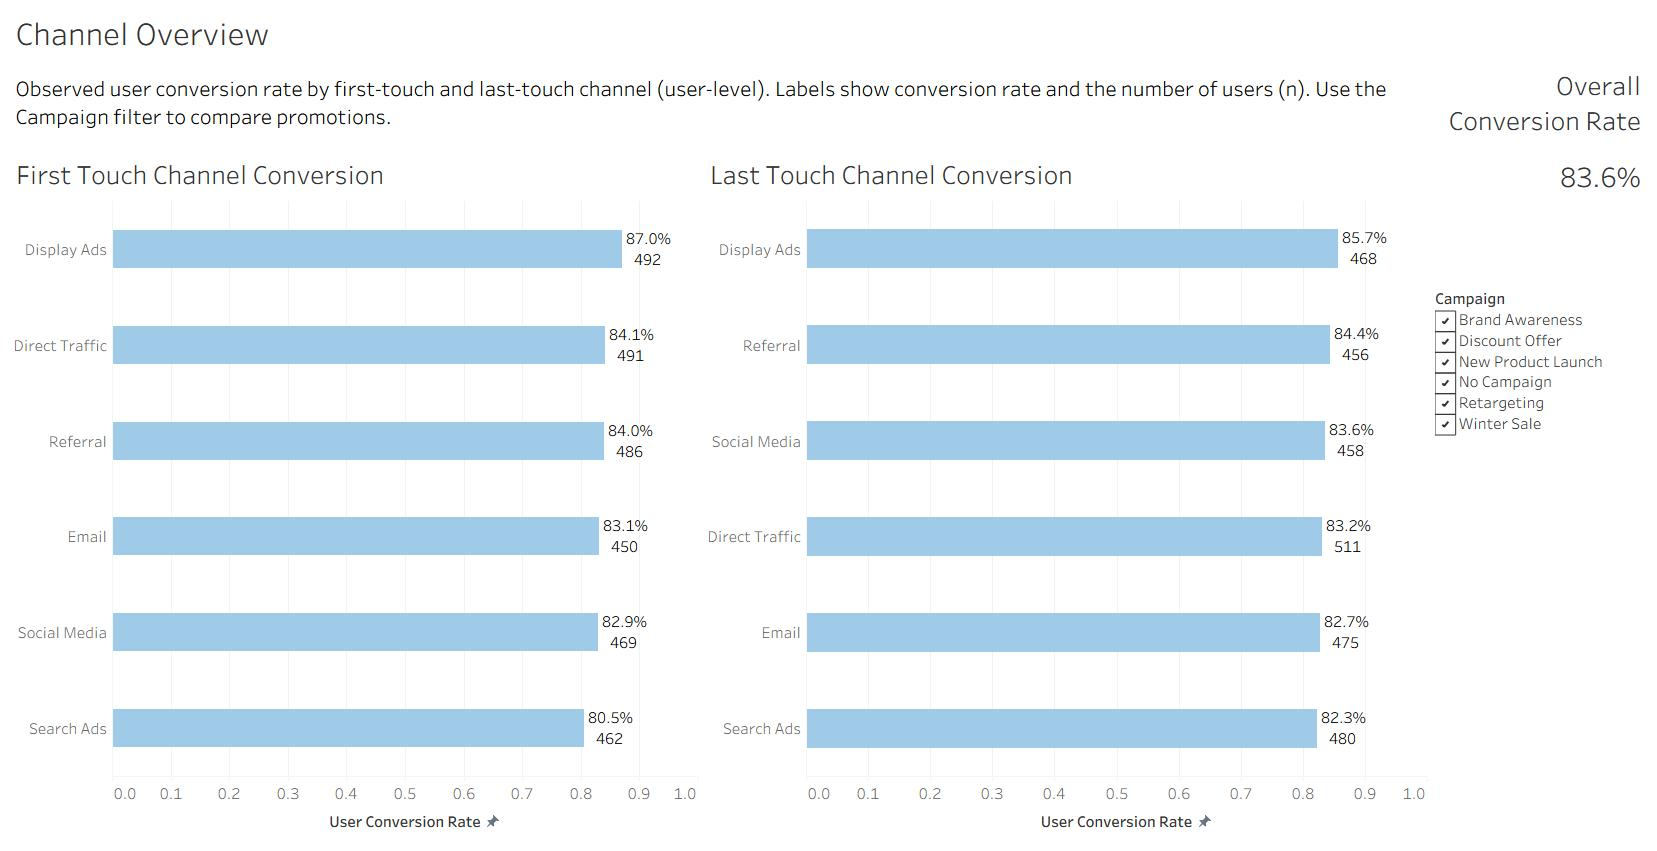

This screenshot's page, from the dashboard's own definition file:
{"tool":"tableau","page":{"name":"Channel Overview","canvas":[1000,1000],"units":"permille","ordinal":0},"visuals":[{"type":"title","box":[4.8,9.4,990.3,58.8]},{"type":"text","box":[4.8,68.2,858.8,104.6]},{"type":"worksheet","title":"Overall Conversion Rate","mark":"Automatic","box":[863.6,68.2,131.6,203.3]},{"type":"worksheet","title":"First Touch Channel Conversion","mark":"Automatic","rows":["Channel"],"cols":["Calculation_1132936819992403971"],"box":[4.8,172.7,418.8,817.9]},{"type":"worksheet","title":"Last Touch Channel Conversion","mark":"Automatic","rows":["Channel"],"cols":["Calculation_1132936819992403971"],"box":[423.6,172.7,440,817.9]},{"type":"filter","title":"First Touch Channel Conversion","param":"[federated.1mprire1l5ndmp1aqkhgo01bt7it].[none:Campaign:nk]","box":[863.6,332.6,131.6,231.5]}]}

Visuals, with their boxes on the dashboard's canvas, which has no fixed pixel size, in thousandths of its width and height (x1, y1, x2, y2). These are canvas units, not pixel positions in the 1657x851 screenshot, which may show the page scaled, cropped or inside an application window:
title: region(5, 9, 995, 68)
text: region(5, 68, 864, 173)
"Overall Conversion Rate" worksheet: region(864, 68, 995, 272)
"First Touch Channel Conversion" worksheet: region(5, 173, 424, 991)
"Last Touch Channel Conversion" worksheet: region(424, 173, 864, 991)
"First Touch Channel Conversion" filter: region(864, 333, 995, 564)
